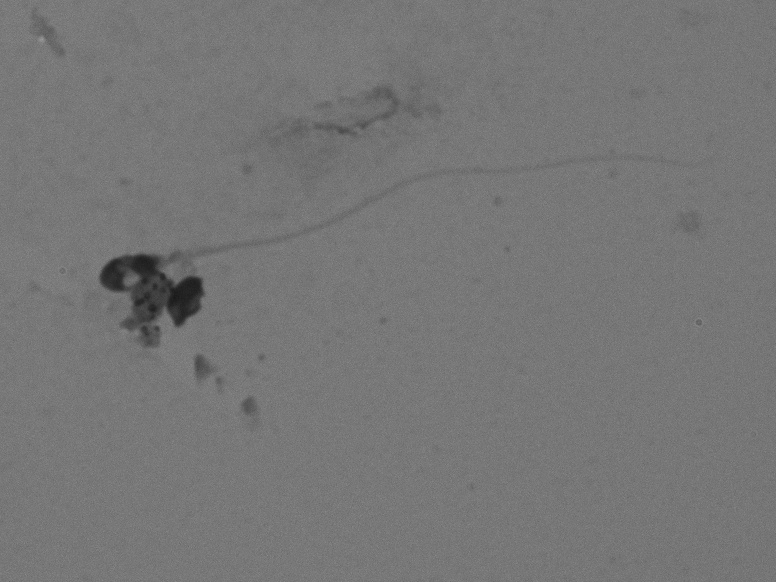Abnormal: (70, 146, 704, 303)
